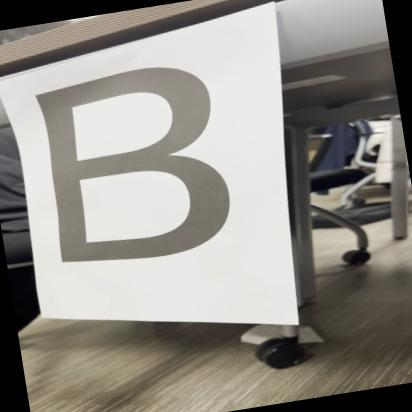seat: (21, 51, 265, 289)
